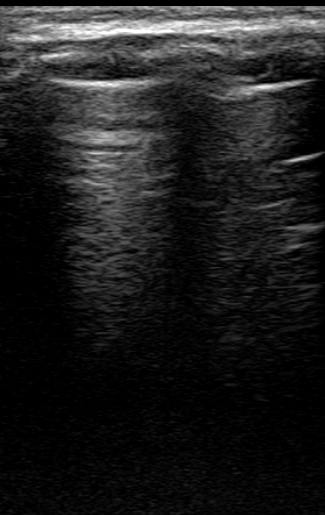irrelevant: (1, 1, 325, 35)
